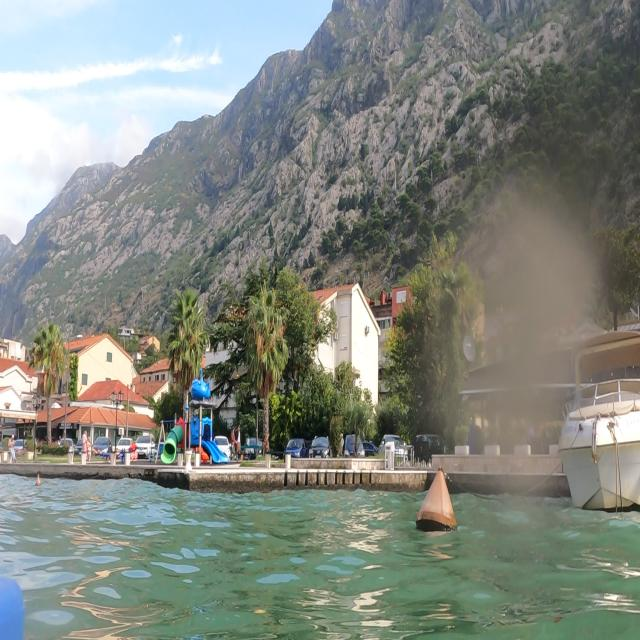boat: (556, 326, 638, 514)
buoy: (413, 463, 459, 539)
